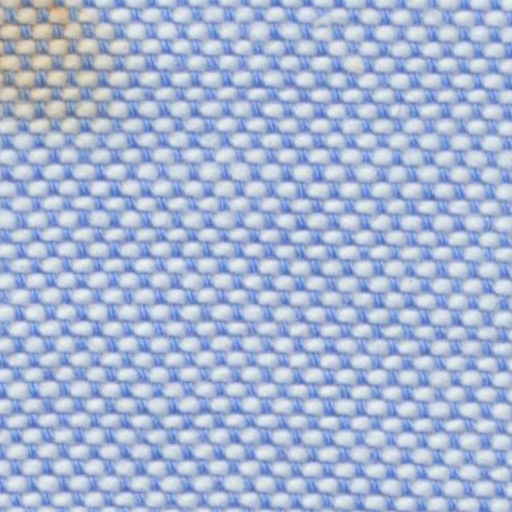WuZi: (2, 8, 113, 132)
